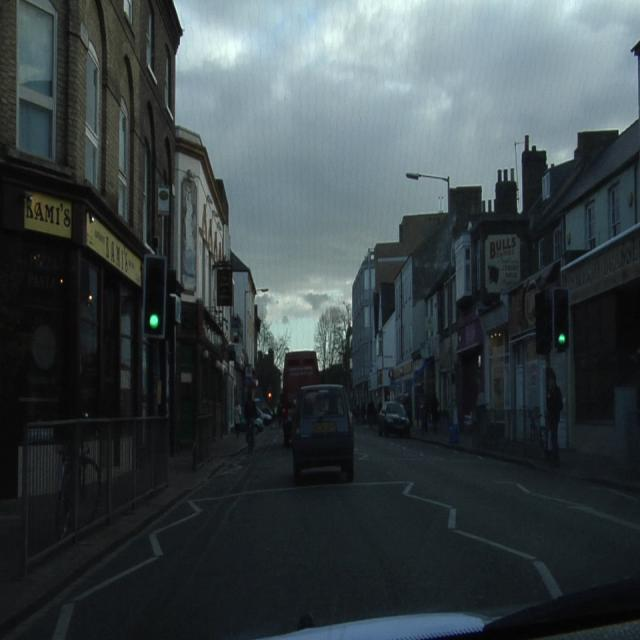Bicyclist: (244, 388, 258, 452)
Building: (1, 3, 258, 498), (352, 118, 639, 462), (283, 351, 319, 409)
Car: (291, 386, 353, 482), (379, 402, 409, 435)
Road: (7, 426, 639, 634)
Tree: (314, 303, 351, 386)
person: (547, 372, 562, 452)
